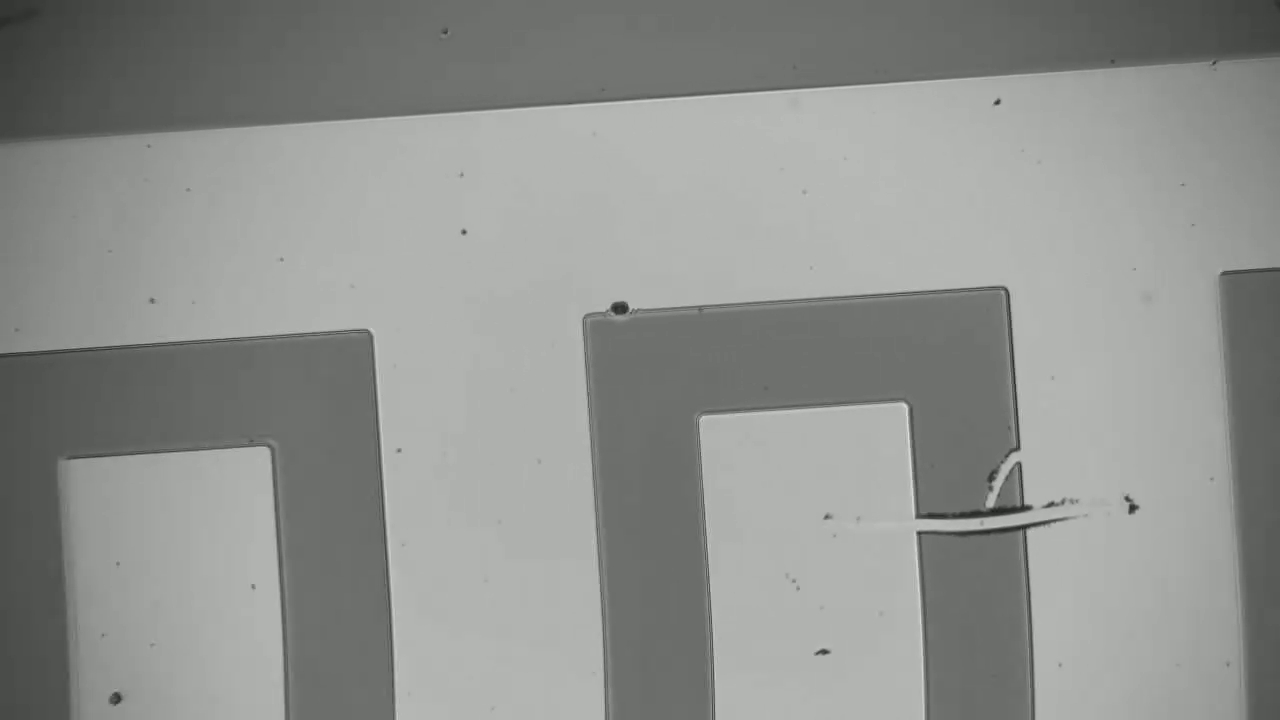Short_circuit: (886, 492, 1053, 557)
